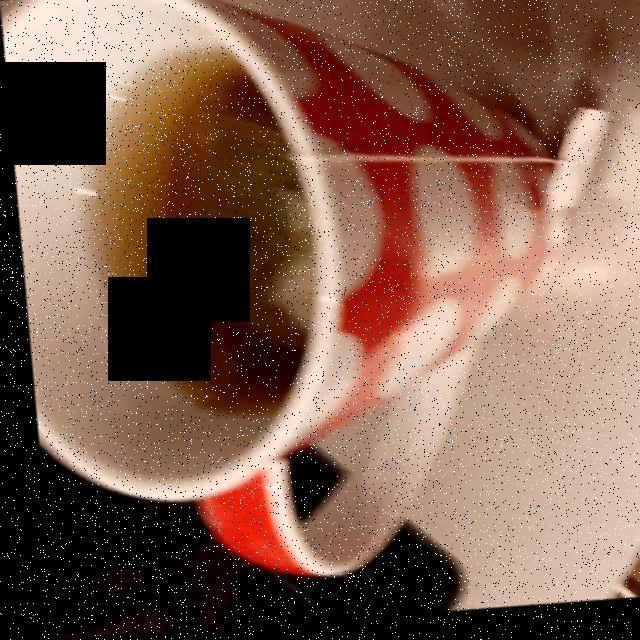tea: (91, 60, 302, 427)
